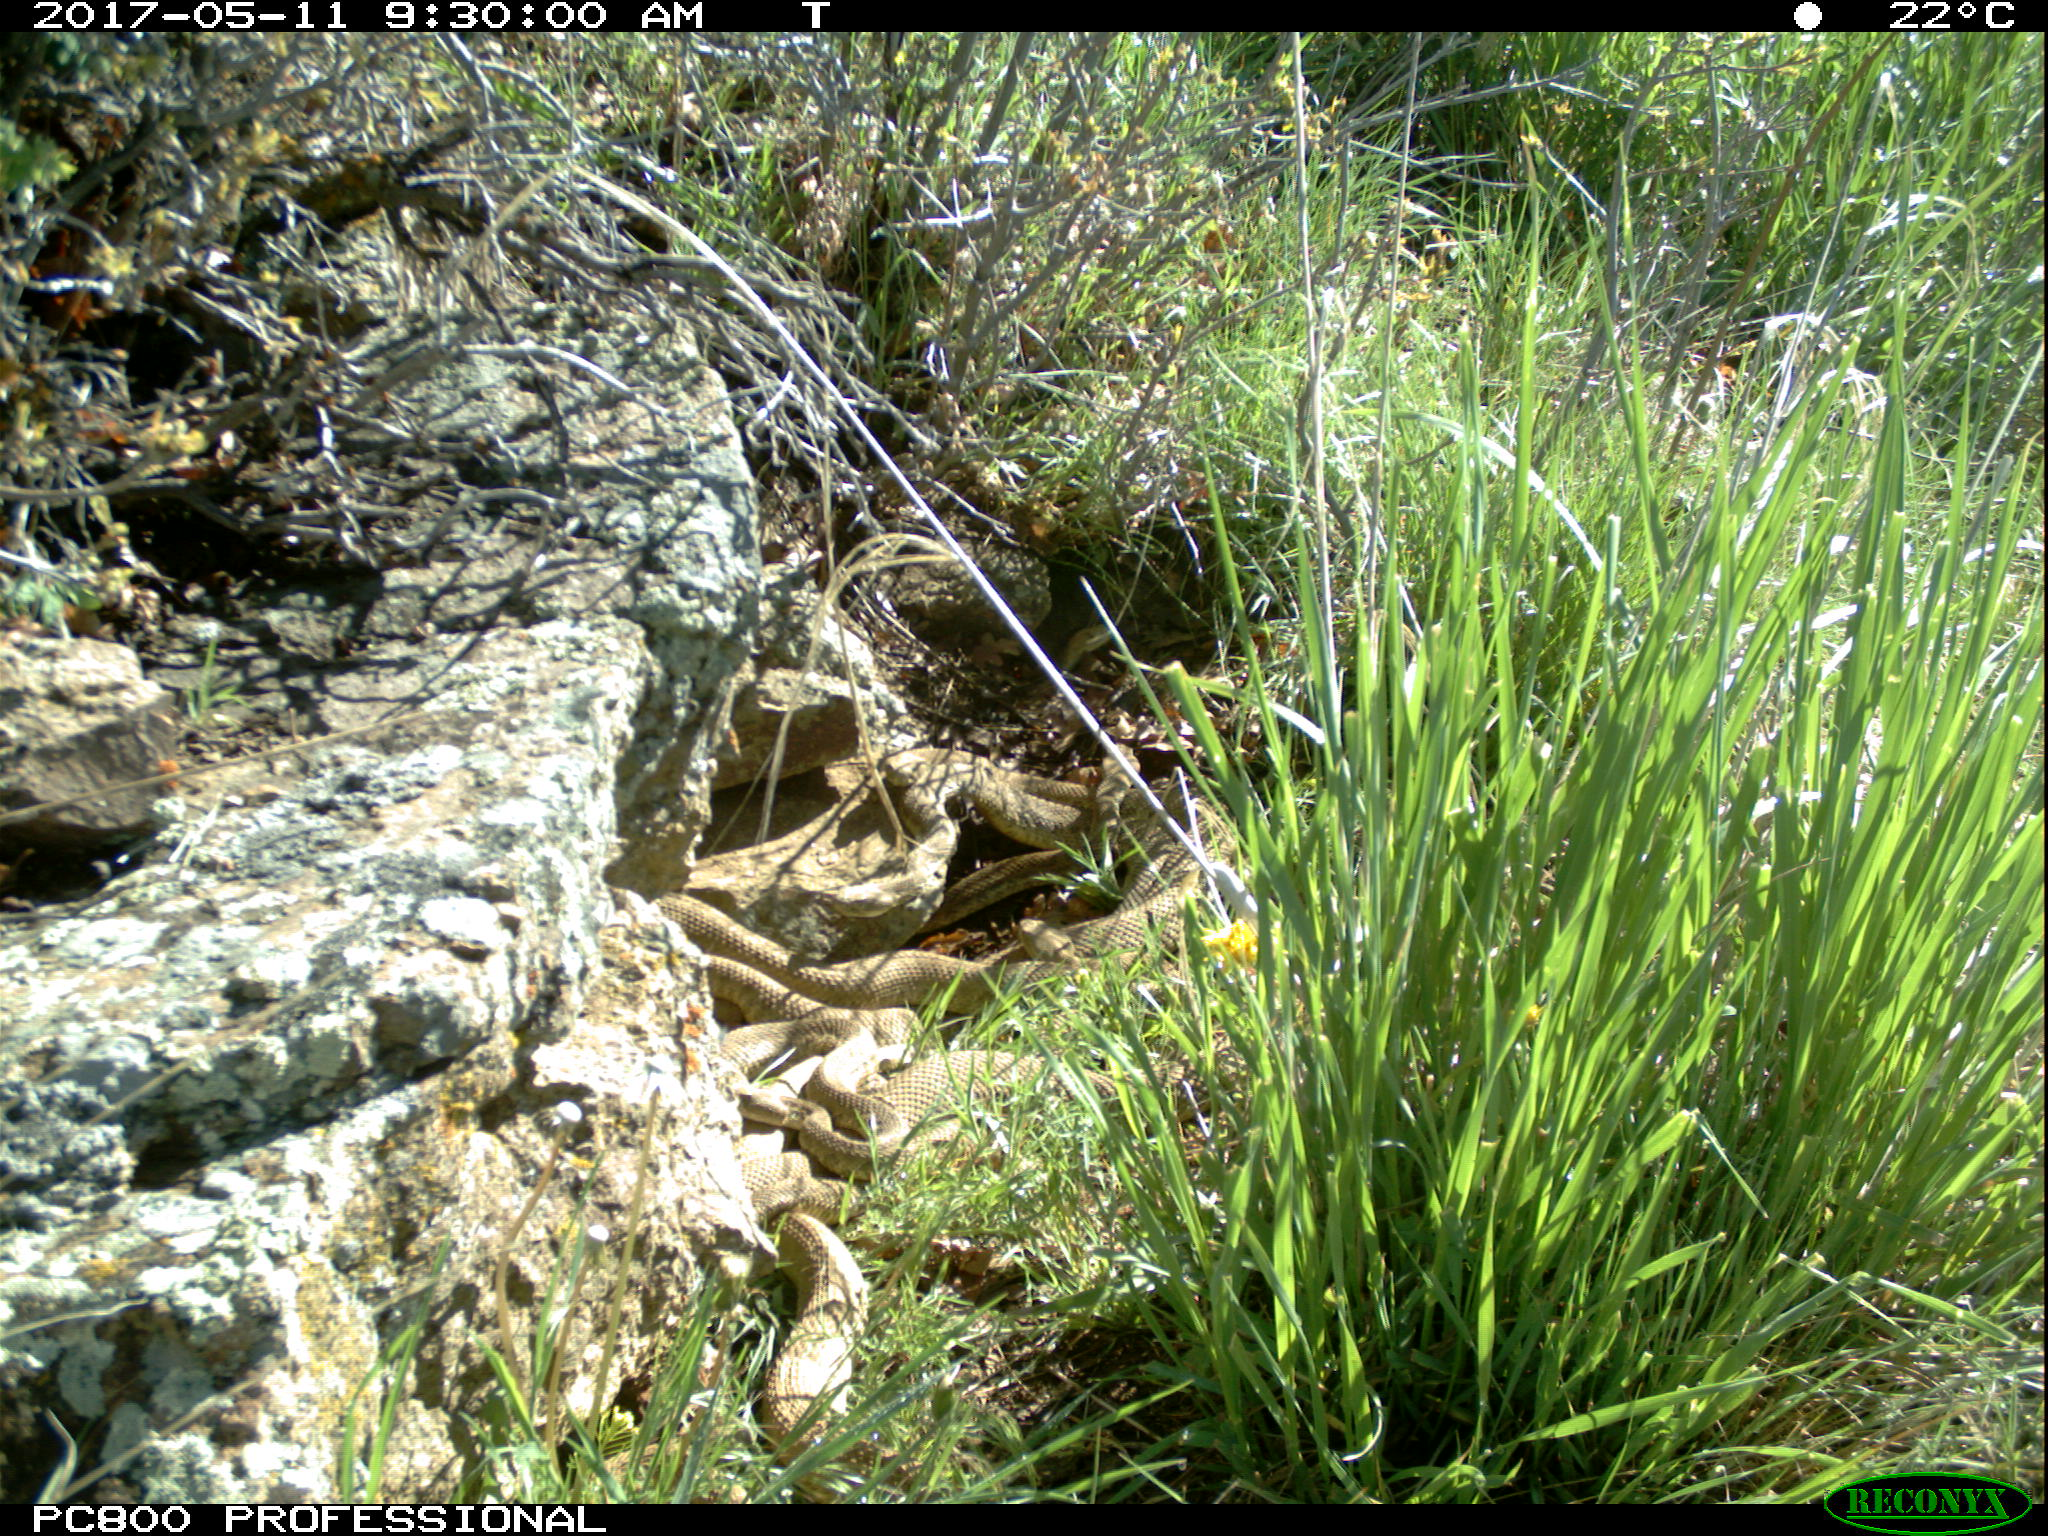snake: (640, 887, 1097, 1137), (727, 1134, 905, 1489), (1019, 815, 1229, 968), (874, 741, 1176, 845), (1026, 616, 1127, 686)
